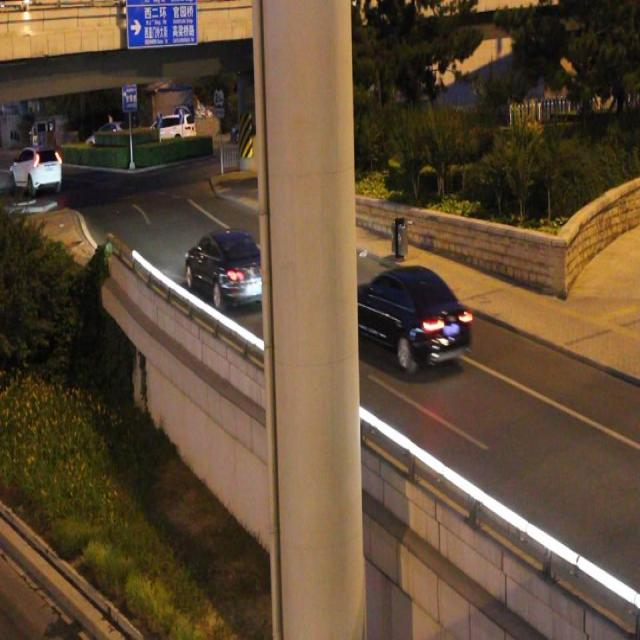car: (341, 262, 471, 372), (184, 227, 269, 309)
